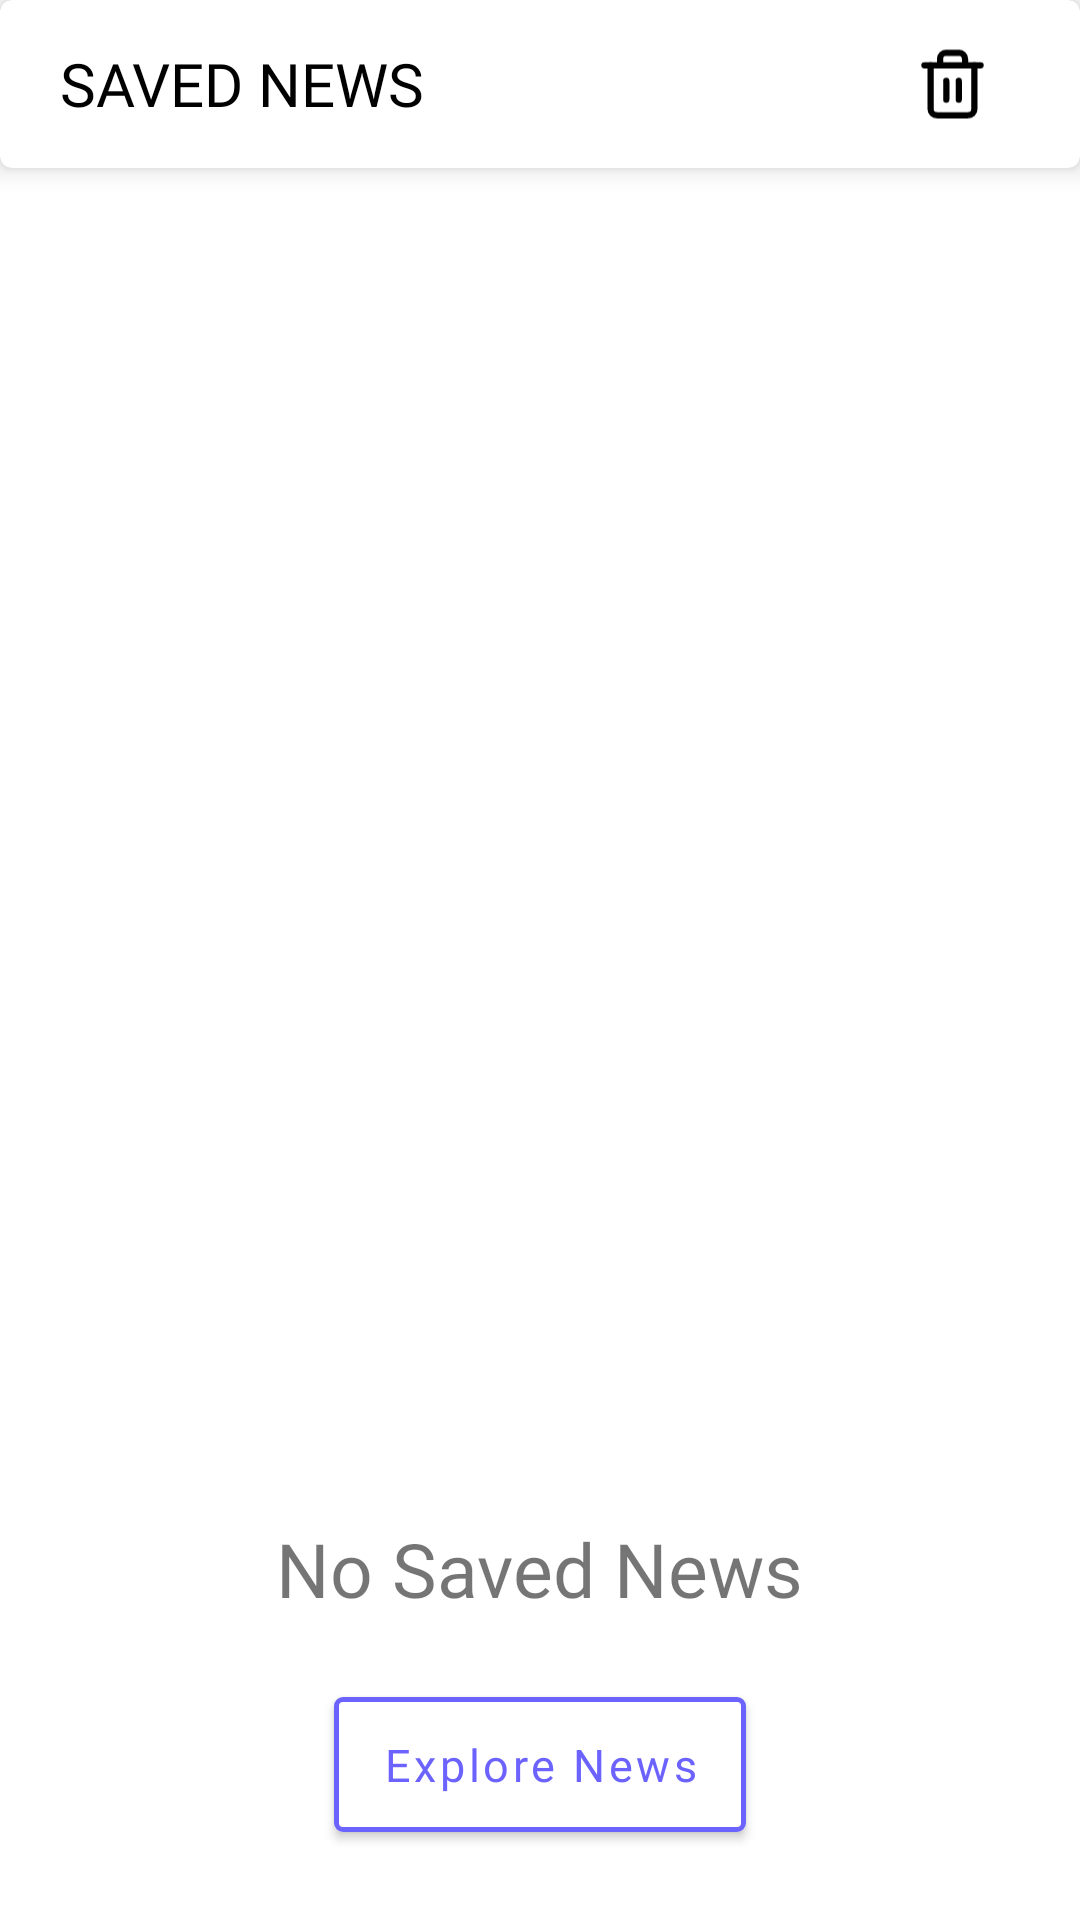

Point at icon controls on the screen. Image size 1080*1920, points as point (x, y).
trash: point (952, 84)
